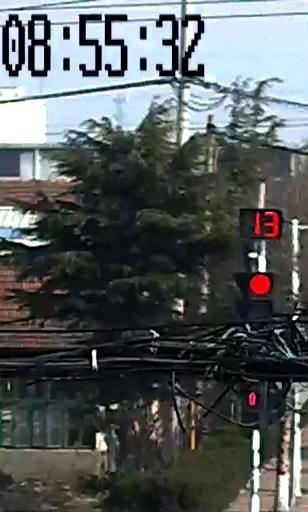red: (243, 268, 274, 300)
redpeople: (244, 386, 259, 411)
redtime: (250, 209, 283, 237)
